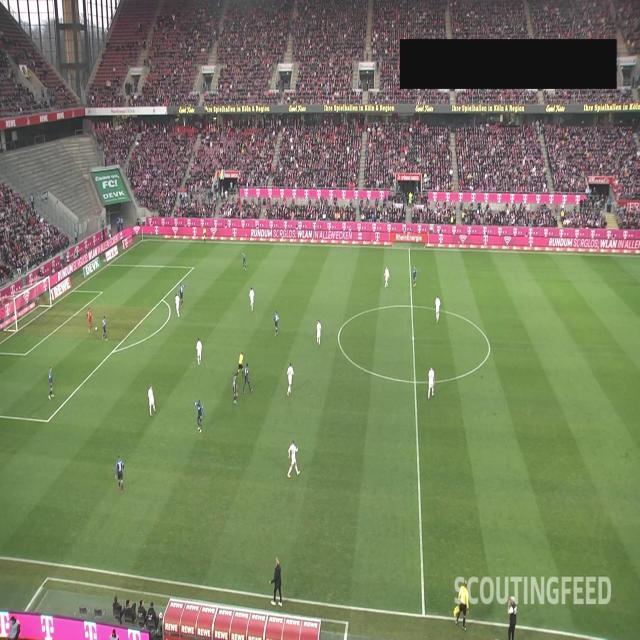Ball: (94, 326, 98, 330)
Corner: (136, 201, 150, 240)
GoalKeeper: (87, 307, 93, 333)
Referee: (454, 580, 470, 630), (237, 352, 244, 378), (203, 224, 207, 243)
TEAM 1: (287, 439, 301, 478), (286, 362, 294, 396), (427, 366, 435, 399), (148, 384, 156, 416), (435, 295, 441, 323), (196, 338, 202, 366), (175, 292, 181, 318), (249, 286, 255, 312), (316, 320, 322, 346), (384, 266, 390, 288)
TEAM 2: (192, 400, 205, 432), (242, 362, 254, 394), (116, 452, 124, 494), (232, 372, 239, 404), (48, 365, 54, 399), (274, 310, 280, 338), (102, 315, 108, 341), (412, 264, 418, 286), (180, 284, 184, 307), (242, 251, 246, 271)
